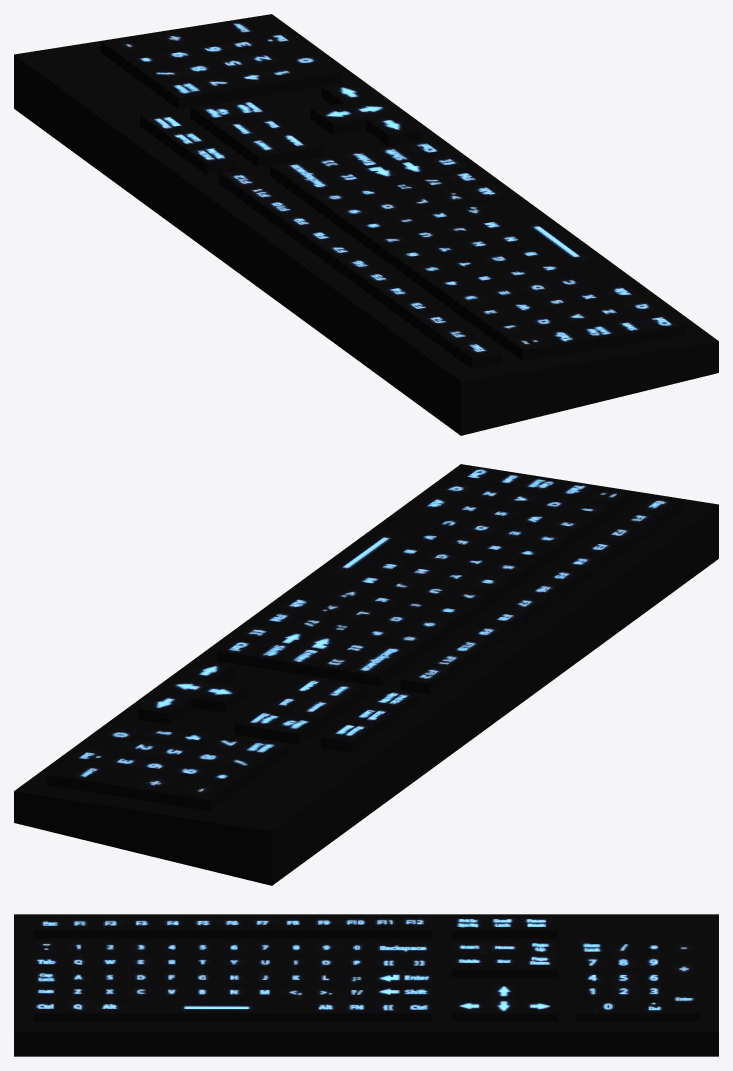
File: Gamingtoetsenbord 1.fbx
3 renders of one model, top to bottom at view 1: azimuth 30°, elevation 25°; view 2: azimuth 150°, elevation 25°; view 3: azimuth 270°, elevation 25°, orthographic. The views are drawn at different scales.
Parts seen in each view (by area): view 1: Toetsenbord; view 2: Toetsenbord; view 3: Toetsenbord.
Part boxes in pixels (<box>): Toetsenbord: <box>14,14,718,435</box>; Toetsenbord: <box>14,464,718,885</box>; Toetsenbord: <box>14,914,718,1056</box>.
Bounding box in the file's own units: 15.94 × 3.71 × 47.81.
Materials: 1 (1 with a texture image).
